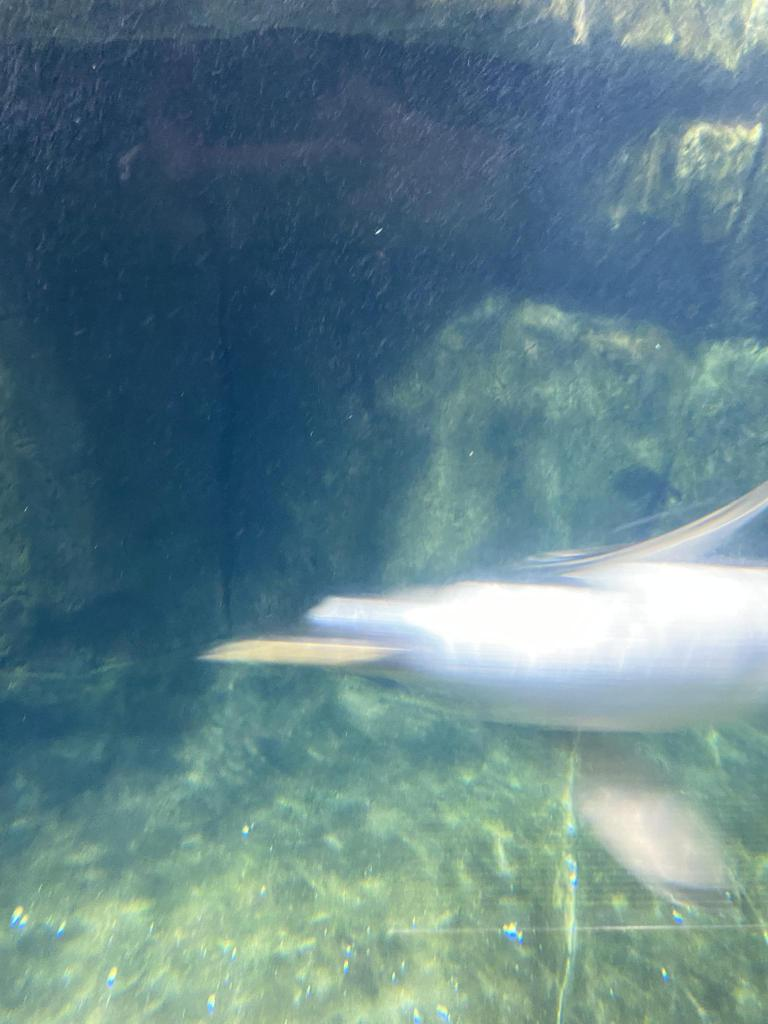penguin: (193, 480, 767, 910)
